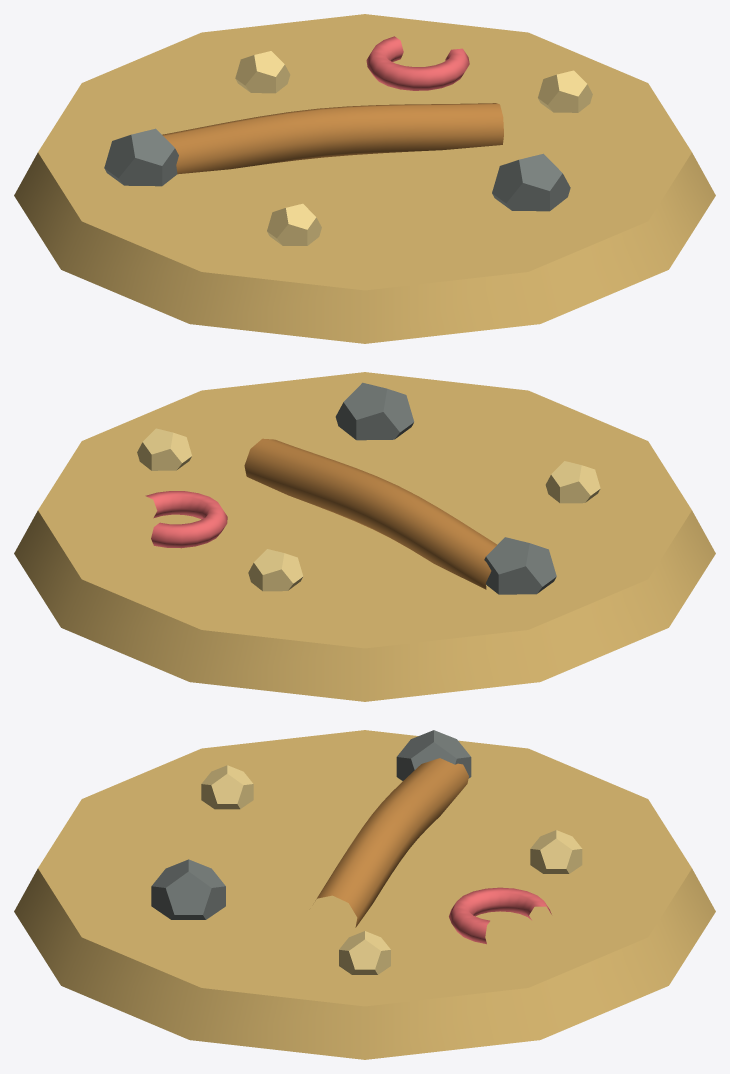
File: terrain-beach.glb
3 renders of one model, top to bottom at view 1: azimuth 30°, elevation 25°; view 2: azimuth 150°, elevation 25°; view 3: azimuth 270°, elevation 25°, orthographic.
Parts seen in each view (by area): view 1: BeachDecor_TropicalSand_0, BeachDecor_RaftWoodLight_1, BeachDecor_WeatheredRock_3, BeachDecor_SunlitSand_2, BeachDecor_CoralPink_4; view 2: BeachDecor_TropicalSand_0, BeachDecor_RaftWoodLight_1, BeachDecor_WeatheredRock_3, BeachDecor_SunlitSand_2, BeachDecor_CoralPink_4; view 3: BeachDecor_TropicalSand_0, BeachDecor_RaftWoodLight_1, BeachDecor_WeatheredRock_3, BeachDecor_SunlitSand_2, BeachDecor_CoralPink_4.
Part boxes in pixels (left/top/right/bottom): BeachDecor_TropicalSand_0: left=14, top=14, right=715, bottom=343; BeachDecor_RaftWoodLight_1: left=162, top=103, right=503, bottom=174; BeachDecor_WeatheredRock_3: left=104, top=128, right=570, bottom=211; BeachDecor_SunlitSand_2: left=235, top=51, right=592, bottom=245; BeachDecor_CoralPink_4: left=366, top=36, right=469, bottom=90; BeachDecor_TropicalSand_0: left=14, top=372, right=715, bottom=701; BeachDecor_RaftWoodLight_1: left=244, top=438, right=496, bottom=589; BeachDecor_WeatheredRock_3: left=335, top=382, right=556, bottom=594; BeachDecor_SunlitSand_2: left=137, top=428, right=600, bottom=591; BeachDecor_CoralPink_4: left=145, top=491, right=227, bottom=548; BeachDecor_TropicalSand_0: left=14, top=730, right=715, bottom=1059; BeachDecor_RaftWoodLight_1: left=315, top=758, right=468, bottom=927; BeachDecor_WeatheredRock_3: left=151, top=730, right=471, bottom=919; BeachDecor_SunlitSand_2: left=201, top=765, right=582, bottom=974; BeachDecor_CoralPink_4: left=449, top=887, right=551, bottom=944.
Bounding box in the file's own units: 1.76 × 0.2351 × 1.76.
